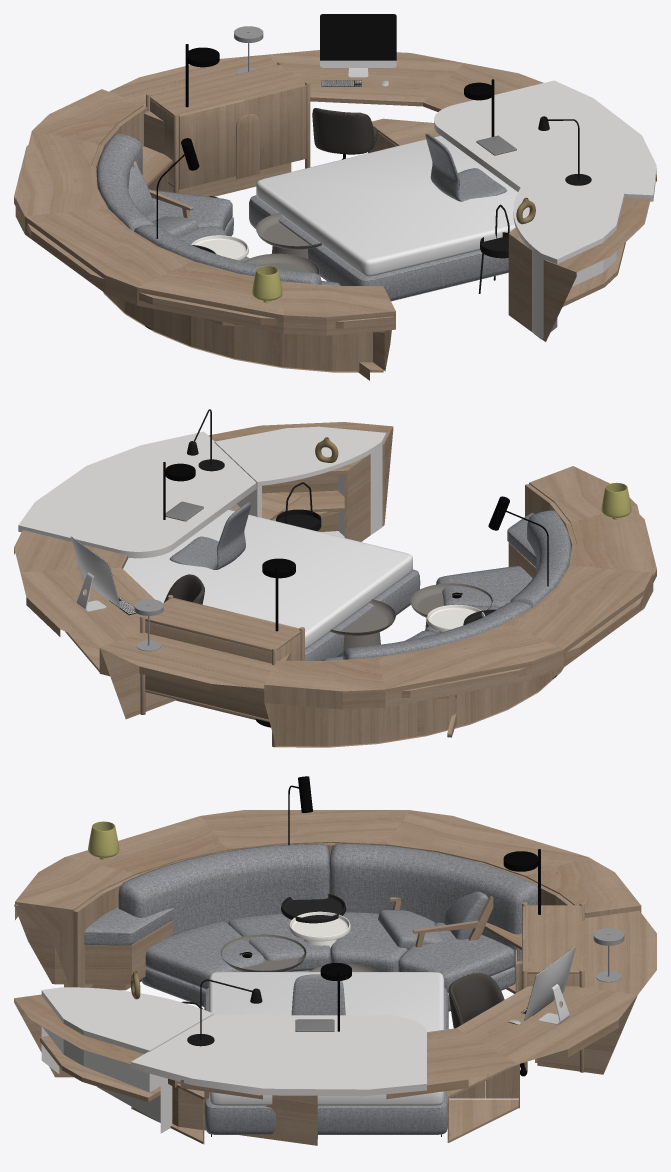
Rendered from furniture-office-draco.glb.
3 views of the same model, one above another, from view 1: azimuth 30°, elevation 25°; view 2: azimuth 150°, elevation 25°; view 3: azimuth 270°, elevation 25° (orthographic). The views are drawn at different scales.
Parts seen in each view (by area): view 1: live, sleep, work; view 2: live, work, sleep; view 3: live, work, sleep.
Boxes of the visible parts, <box> form: live: <box>15,44,656,372</box>; sleep: <box>128,61,517,329</box>; work: <box>14,14,656,380</box>; live: <box>18,409,653,747</box>; work: <box>14,422,656,735</box>; sleep: <box>65,492,556,747</box>; live: <box>15,810,641,1133</box>; work: <box>14,821,656,1145</box>; sleep: <box>131,776,584,1144</box>.
Bounding box in the file's own units: 5.12 × 1.55 × 4.96.
Materials: 34 (6 with a texture image).
